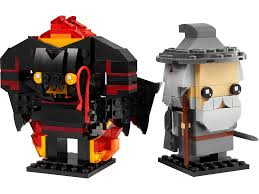gandalf grey: (159, 22, 249, 155)
